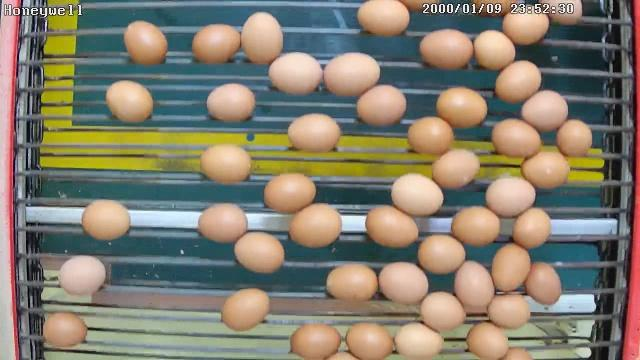egg: (322, 51, 381, 99), (286, 202, 342, 250), (266, 50, 322, 97), (218, 286, 272, 334), (232, 228, 286, 276), (262, 170, 318, 216), (354, 82, 408, 129), (390, 172, 445, 218), (364, 205, 420, 250), (452, 258, 496, 315), (286, 113, 343, 157), (240, 10, 284, 67), (434, 84, 488, 130), (418, 28, 473, 72), (378, 258, 430, 304), (484, 174, 538, 218), (494, 58, 544, 105), (499, 3, 552, 47), (198, 143, 252, 186), (104, 80, 154, 126), (490, 116, 542, 160), (520, 148, 572, 192), (196, 202, 248, 246), (324, 260, 378, 302), (519, 88, 569, 133), (430, 148, 480, 193), (190, 22, 241, 66), (204, 82, 257, 124), (123, 20, 169, 68), (450, 203, 500, 247), (81, 199, 132, 242), (417, 233, 468, 276), (405, 115, 456, 158), (56, 256, 108, 298), (418, 290, 468, 333), (357, 0, 412, 39), (288, 322, 343, 360), (490, 241, 530, 293), (394, 320, 446, 360), (522, 259, 564, 307), (485, 288, 532, 330), (344, 322, 395, 360), (472, 29, 518, 71), (464, 320, 512, 360), (42, 310, 90, 349), (510, 206, 552, 250), (556, 118, 594, 159)
